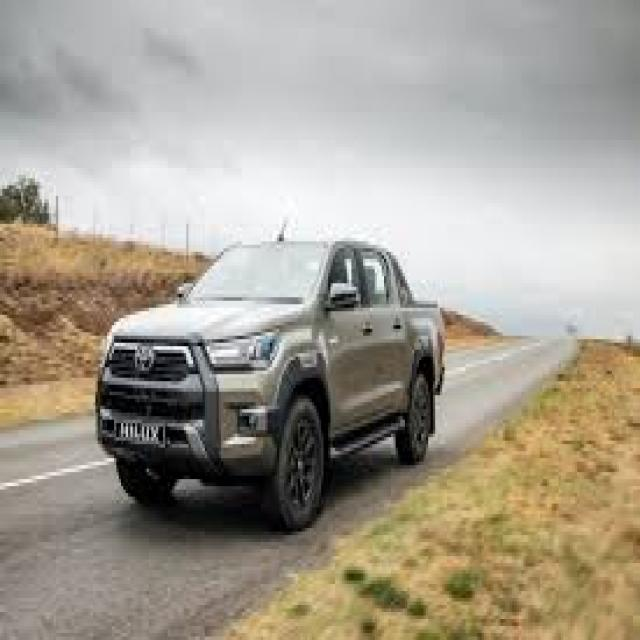Pickup Trucks: (96, 241, 444, 535)
